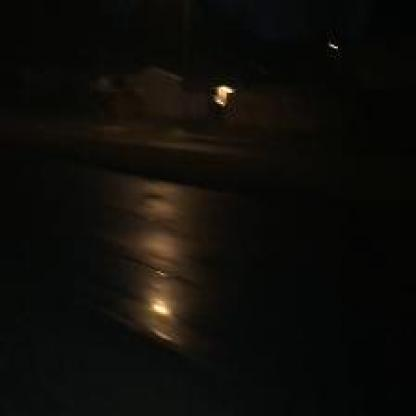other: (131, 280, 179, 333), (204, 74, 254, 111)
